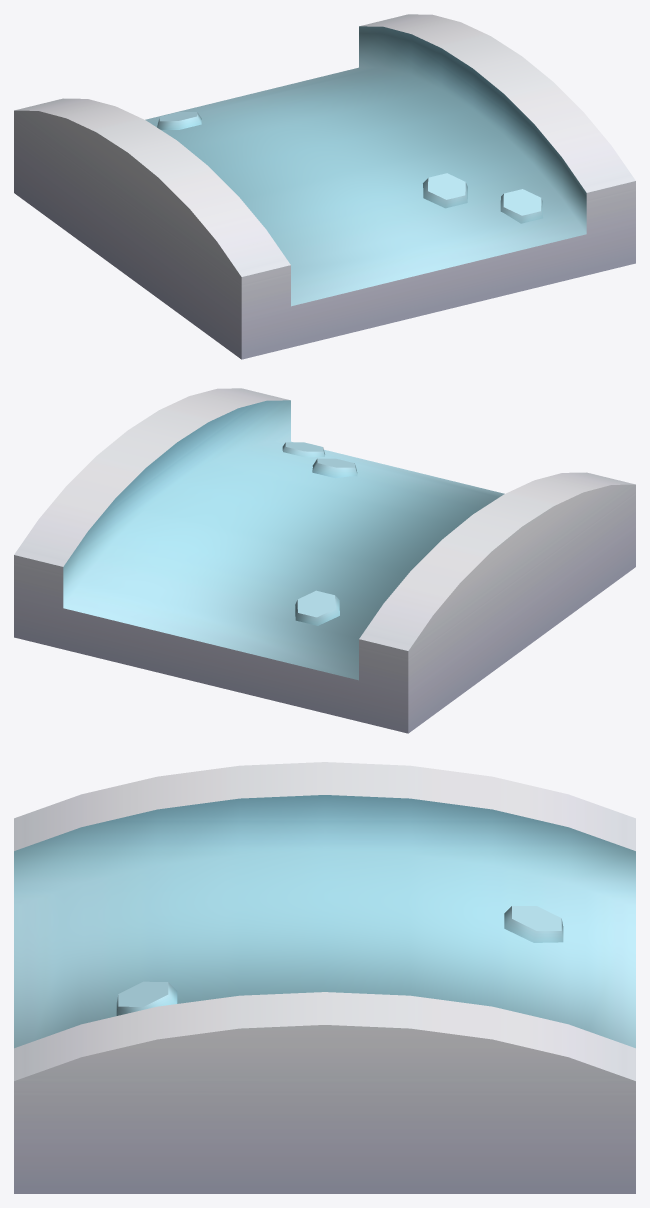
The model's file is kenney-tower-defense-snow-tile-bump.glb.
3 renders of one model, top to bottom at view 1: azimuth 30°, elevation 25°; view 2: azimuth 150°, elevation 25°; view 3: azimuth 270°, elevation 25°, orthographic. The views are drawn at different scales.
Parts seen in each view (by area): view 1: snow-tile-bump; view 2: snow-tile-bump; view 3: snow-tile-bump.
Boxes of the visible parts, <box> form: snow-tile-bump: <box>14,14,635,359</box>; snow-tile-bump: <box>14,388,635,733</box>; snow-tile-bump: <box>14,762,635,1193</box>.
Bounding box in the file's own units: 1 × 0.3 × 1.
1 material, 1 textured.
